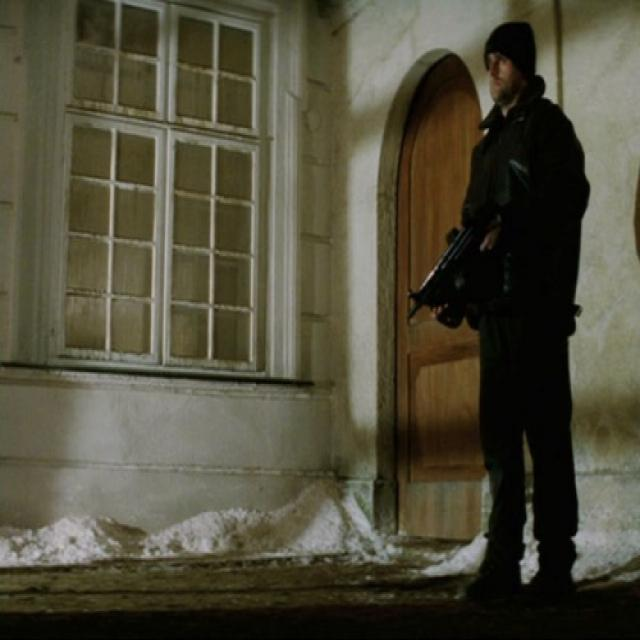rifle: (404, 211, 490, 331)
